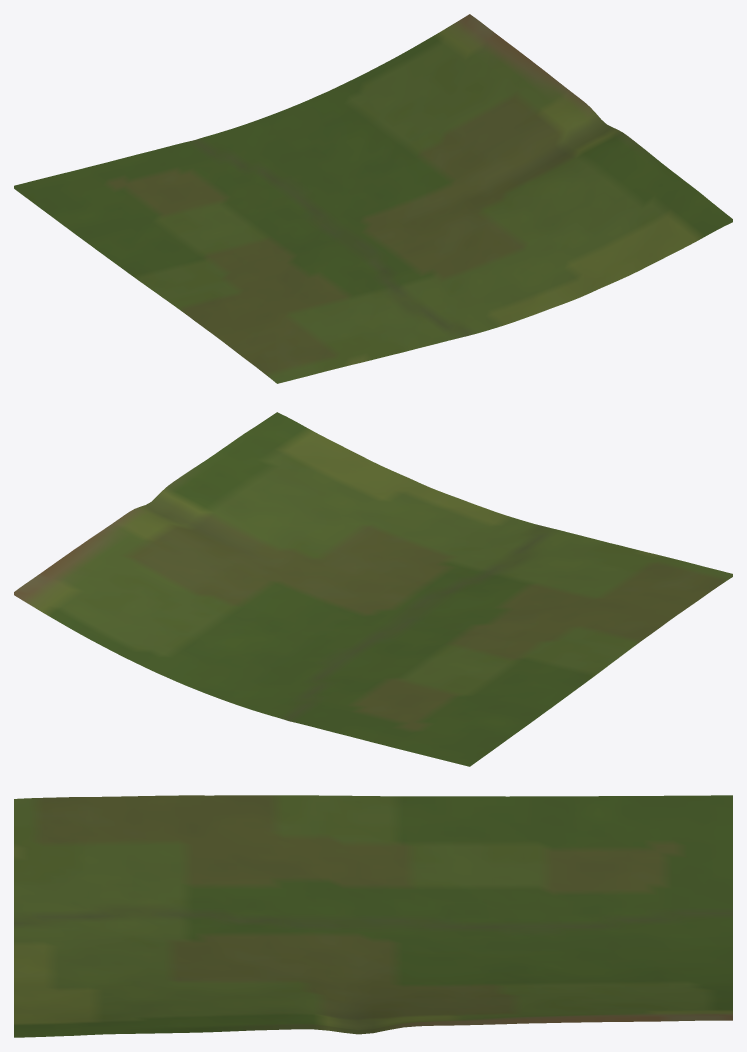
File: land_m_08_06.glb
3 views of the same model, one above another, from view 1: azimuth 30°, elevation 25°; view 2: azimuth 150°, elevation 25°; view 3: azimuth 270°, elevation 25° (orthographic). The views are drawn at different scales.
Visible parts, largest first — view 1: land_m_08_06; view 2: land_m_08_06; view 3: land_m_08_06.
Boxes of the visible parts, x1=… form: land_m_08_06: x1=14, y1=14, x2=732, y2=383; land_m_08_06: x1=14, y1=412, x2=732, y2=766; land_m_08_06: x1=14, y1=795, x2=732, y2=1037.
Size of the model in its own units: 960 by 133 by 960.
